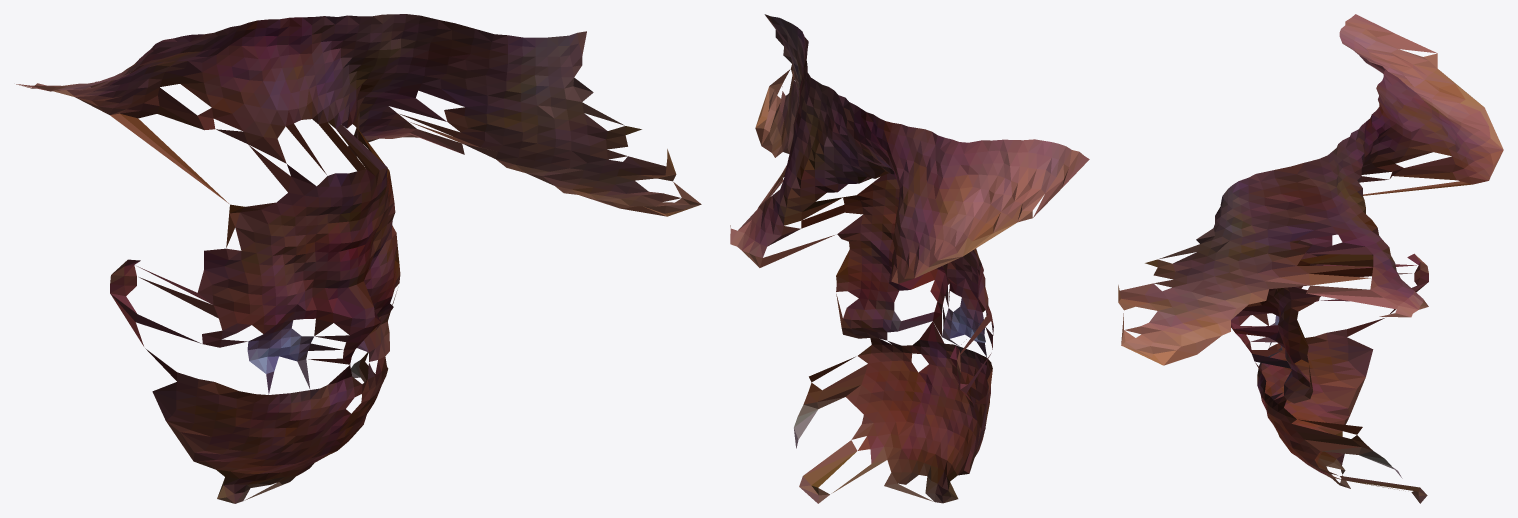
3 renders of one model, left to right at view 1: azimuth 30°, elevation 25°; view 2: azimuth 150°, elevation 25°; view 3: azimuth 270°, elevation 25°, orthographic. The views are drawn at different scales.
Parts seen in each view (by area): view 1: ofMesh; view 2: ofMesh; view 3: ofMesh.
Boxes of the visible parts, left/top/right/bottom form: ofMesh: left=16, top=14, right=701, bottom=503; ofMesh: left=730, top=14, right=1089, bottom=503; ofMesh: left=1118, top=14, right=1503, bottom=503.
Size of the model in its own units: 342 by 288 by 263.
Materials: 1 (1 with a texture image).
